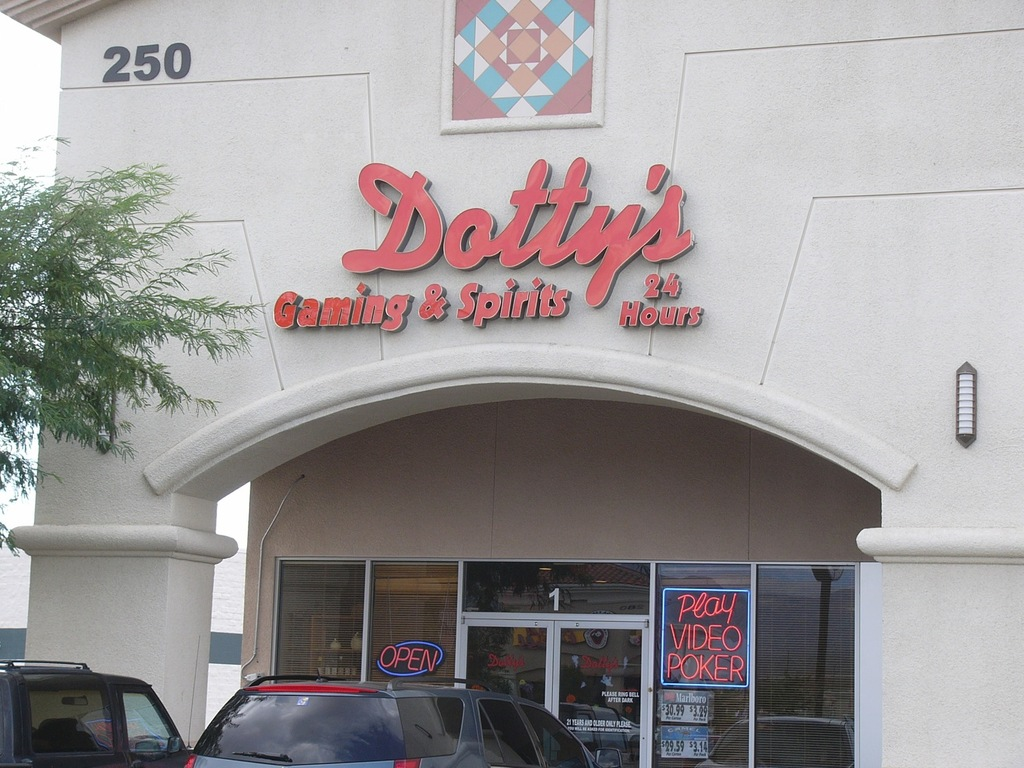cars: (159, 675, 567, 763), (0, 663, 182, 767)
